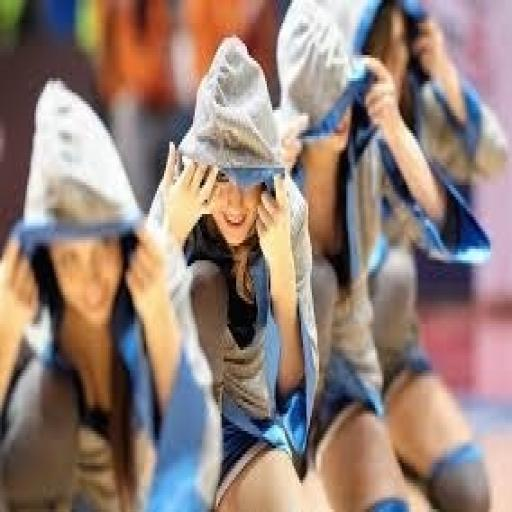dancing: (276, 0, 508, 509), (0, 75, 225, 509)
